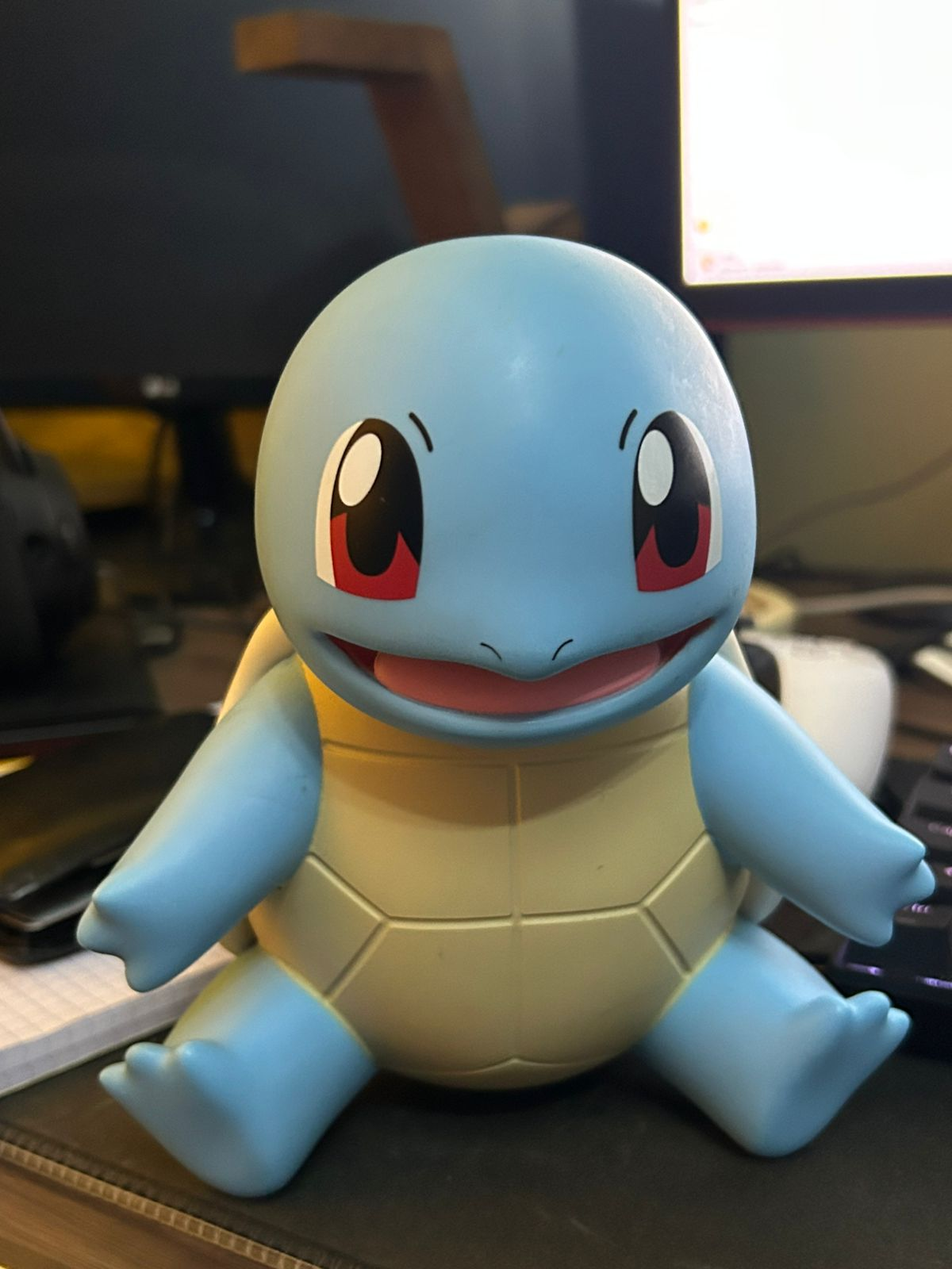Squirtle: (81, 238, 931, 1193)
